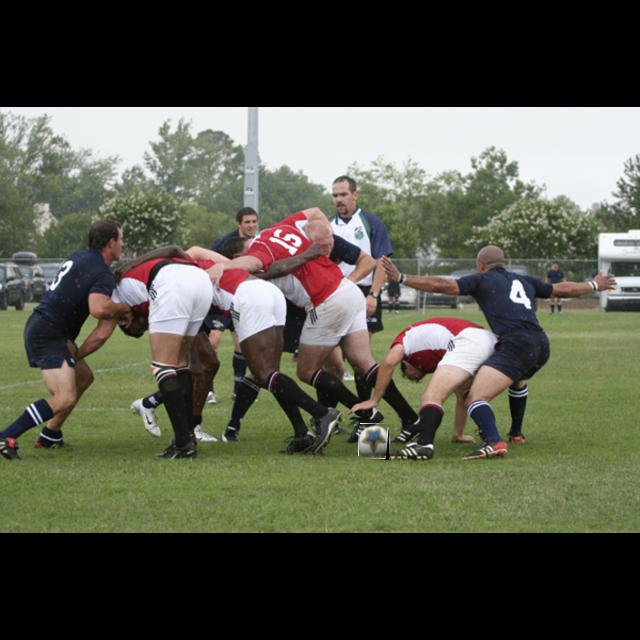Football: (359, 424, 389, 460)
